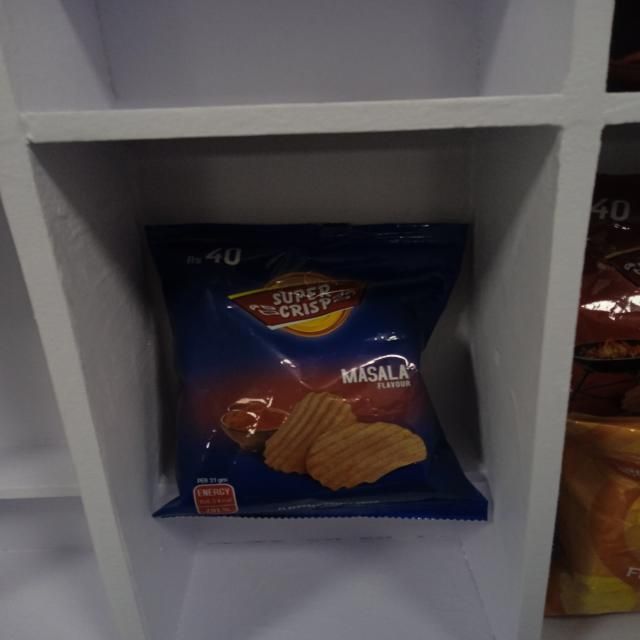Plastic: (138, 217, 490, 521), (560, 414, 640, 616), (581, 168, 640, 408)
